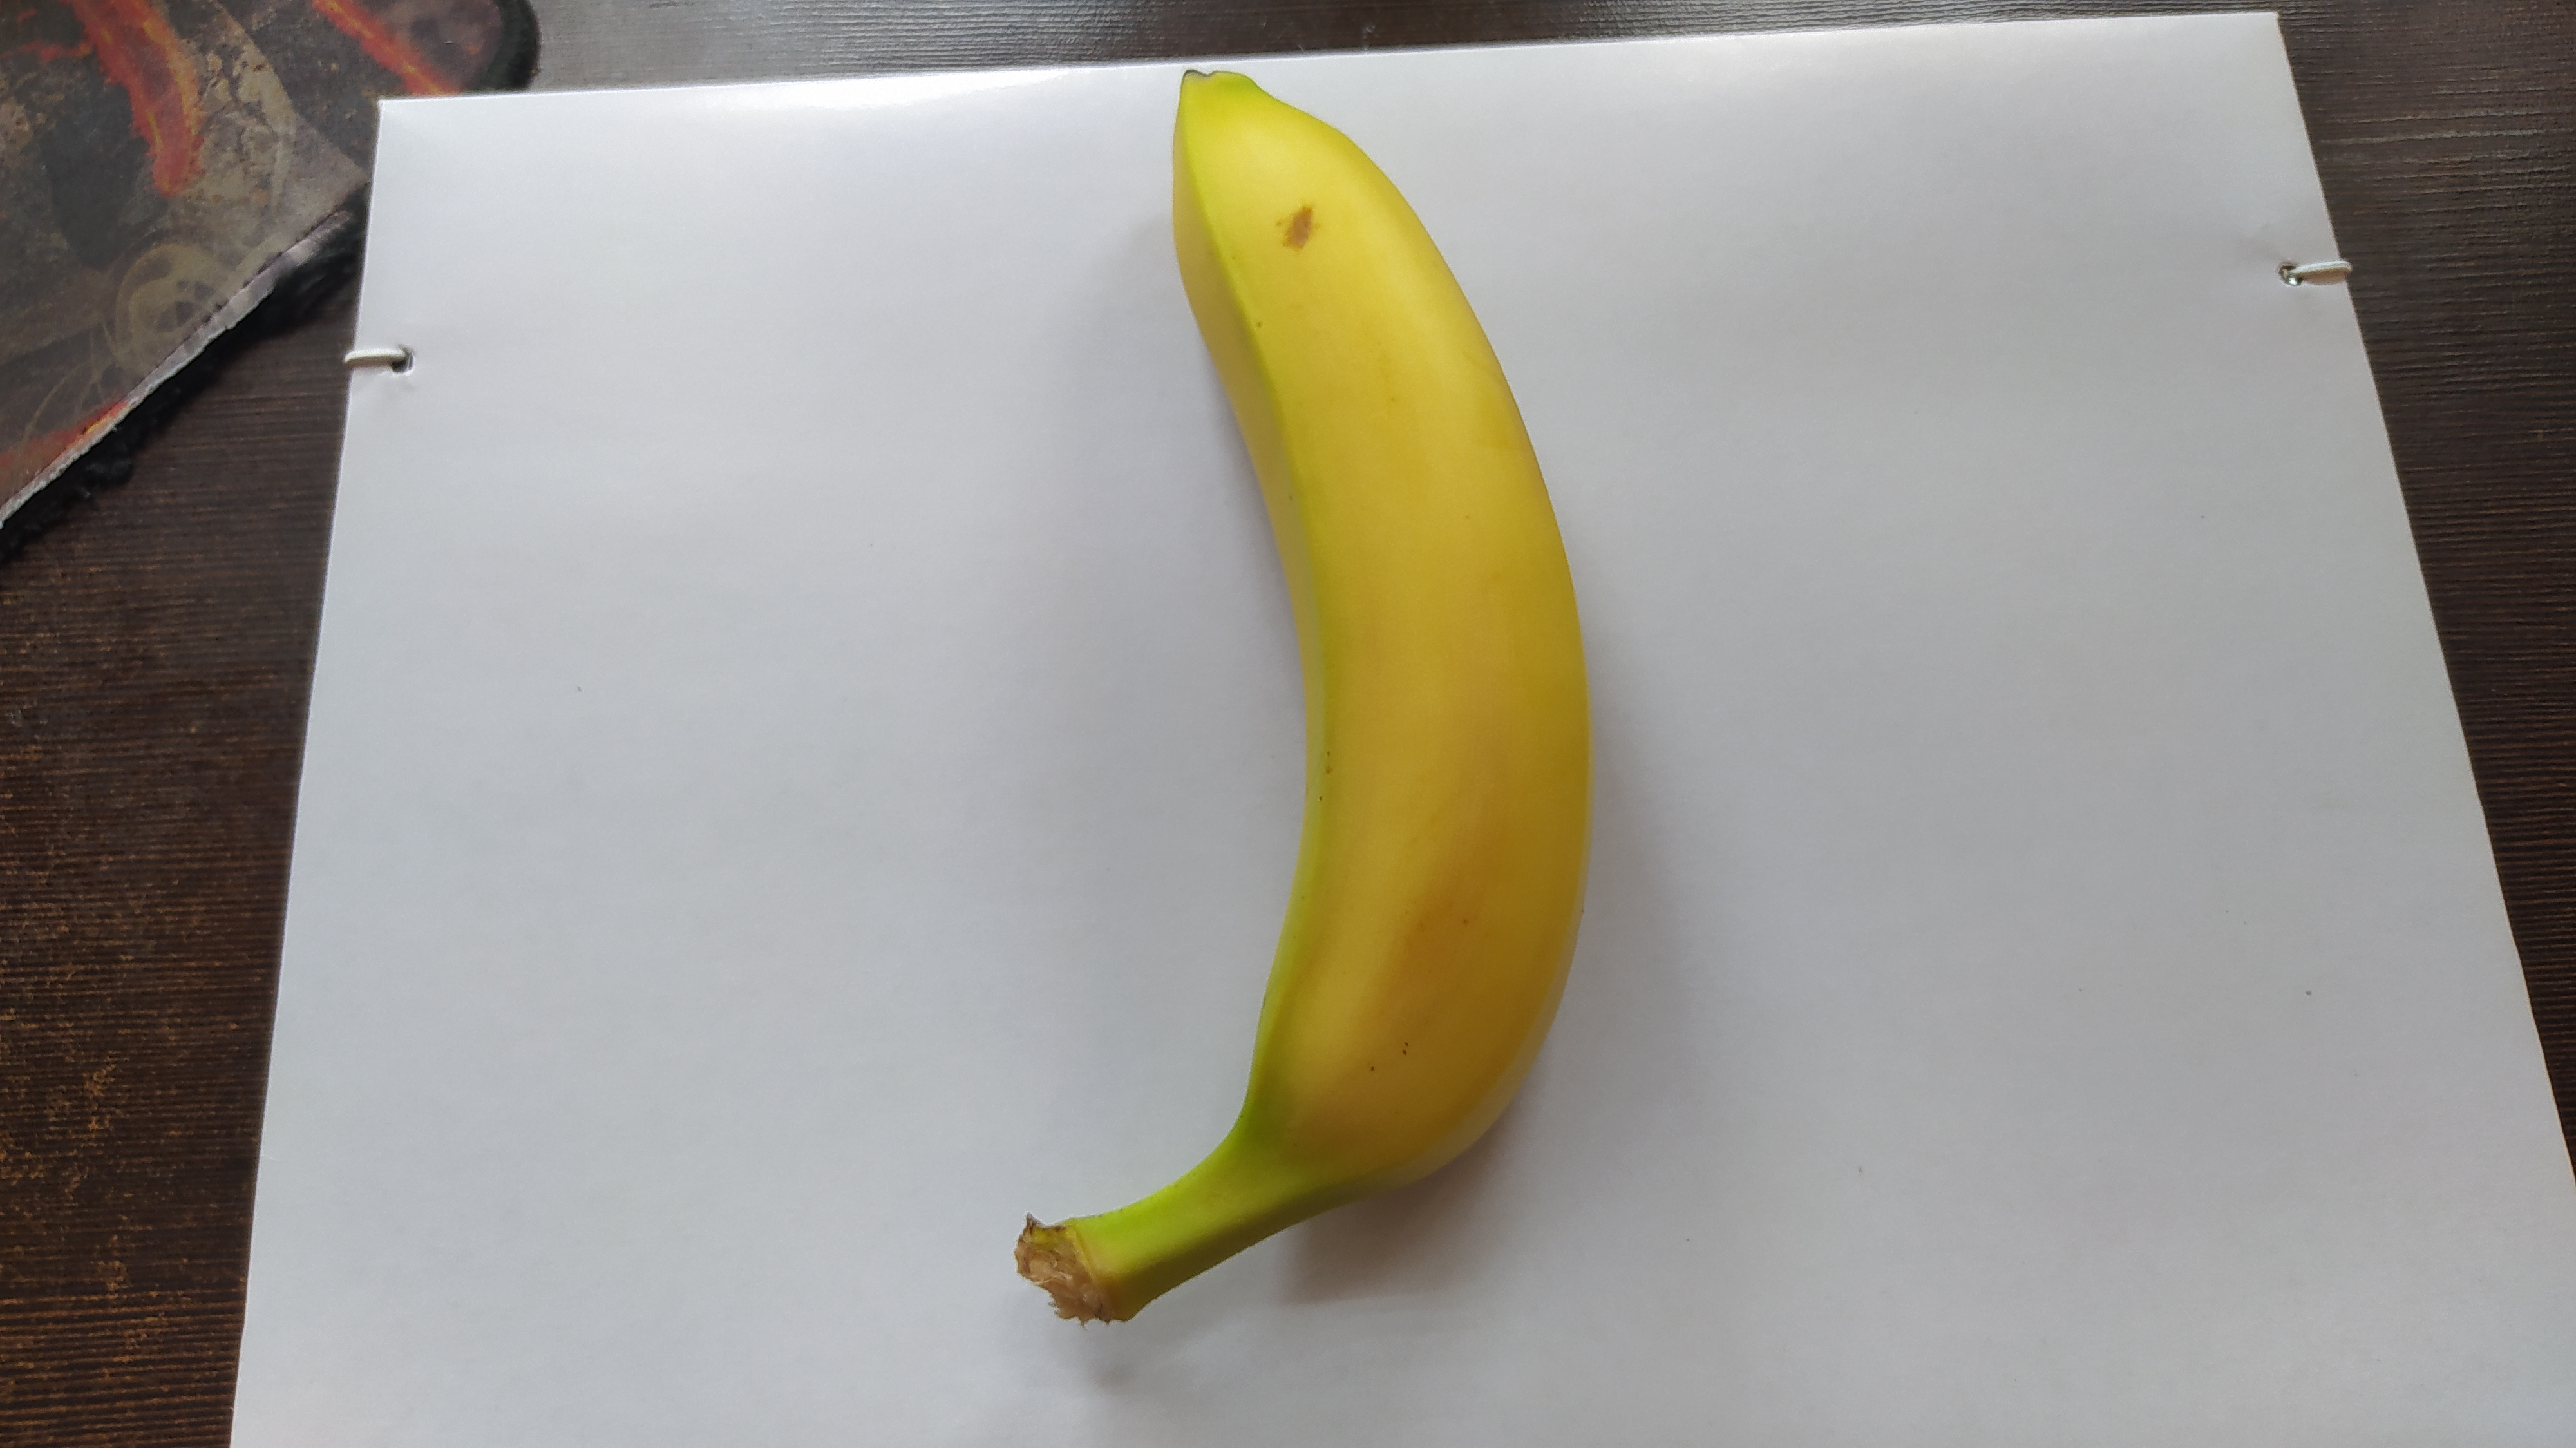banana: (1008, 65, 1596, 1326)
